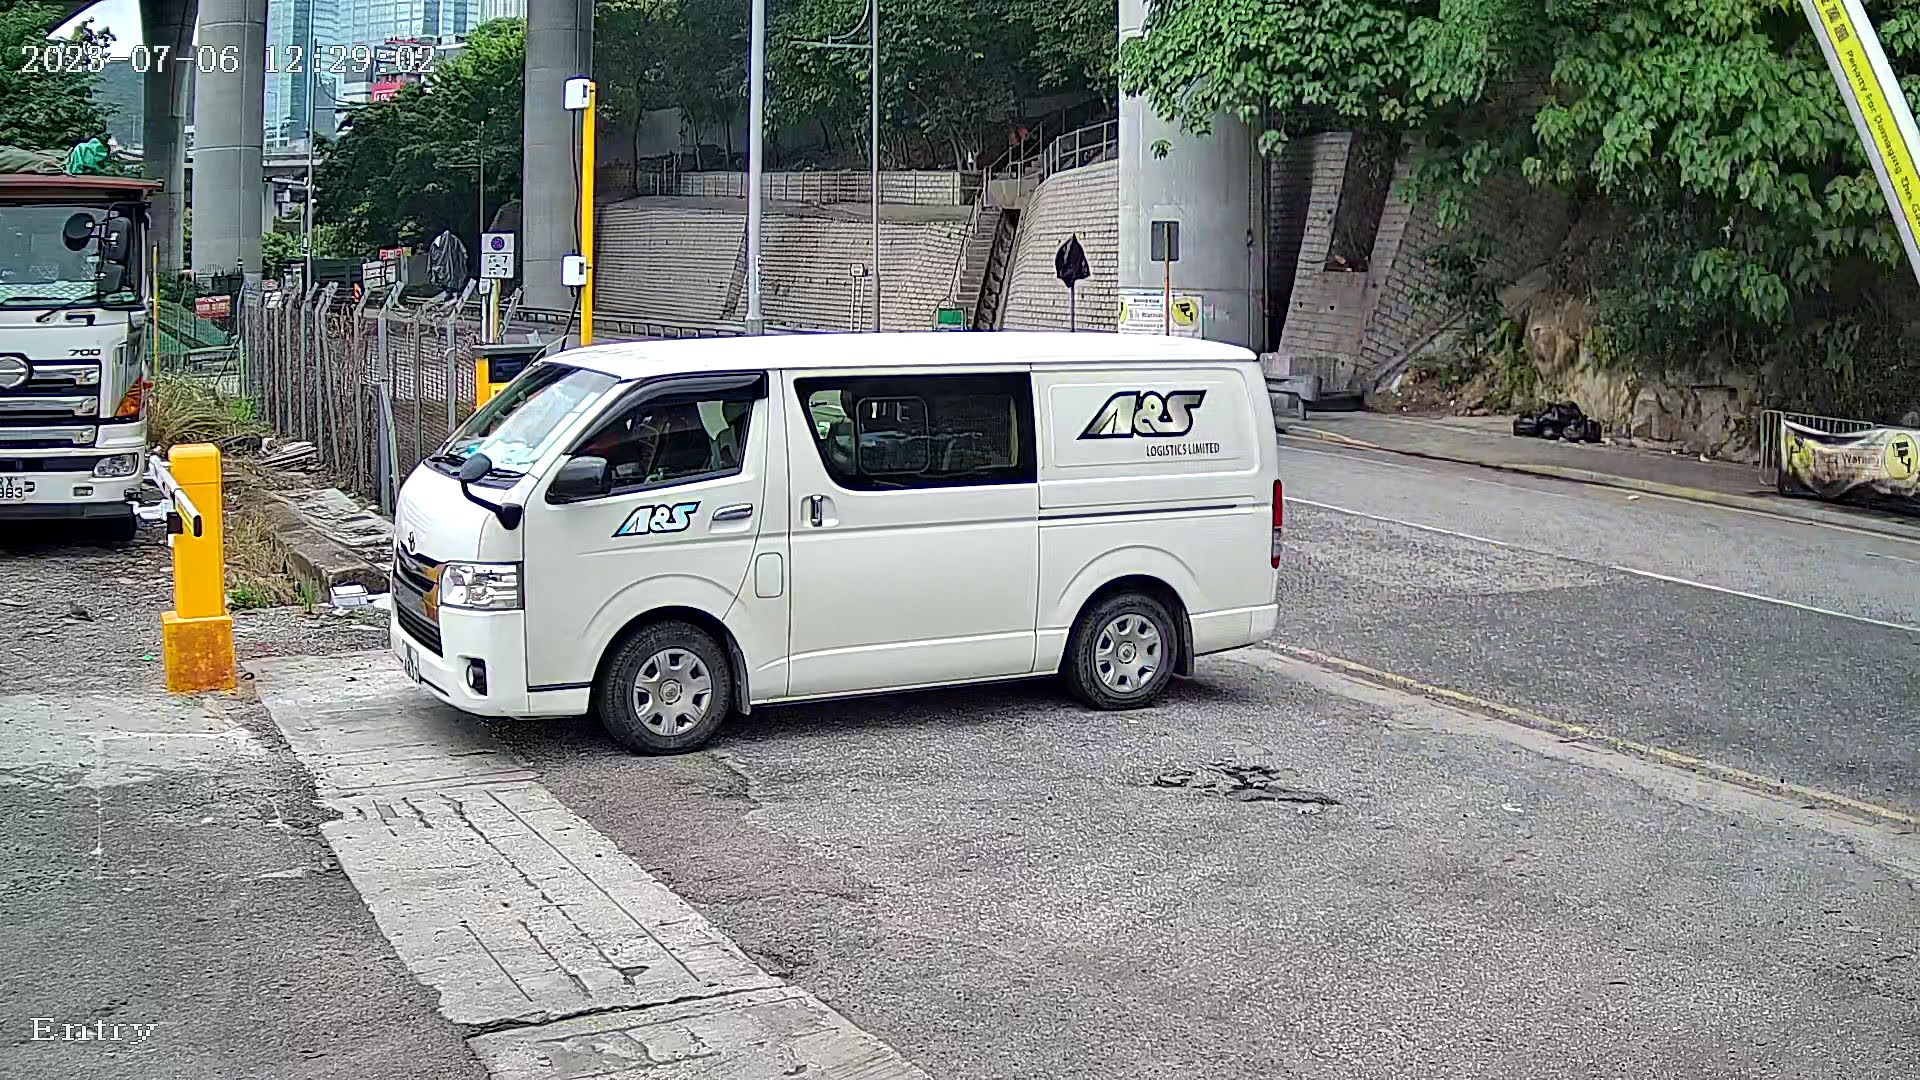privatecar: (315, 253, 1366, 793)
